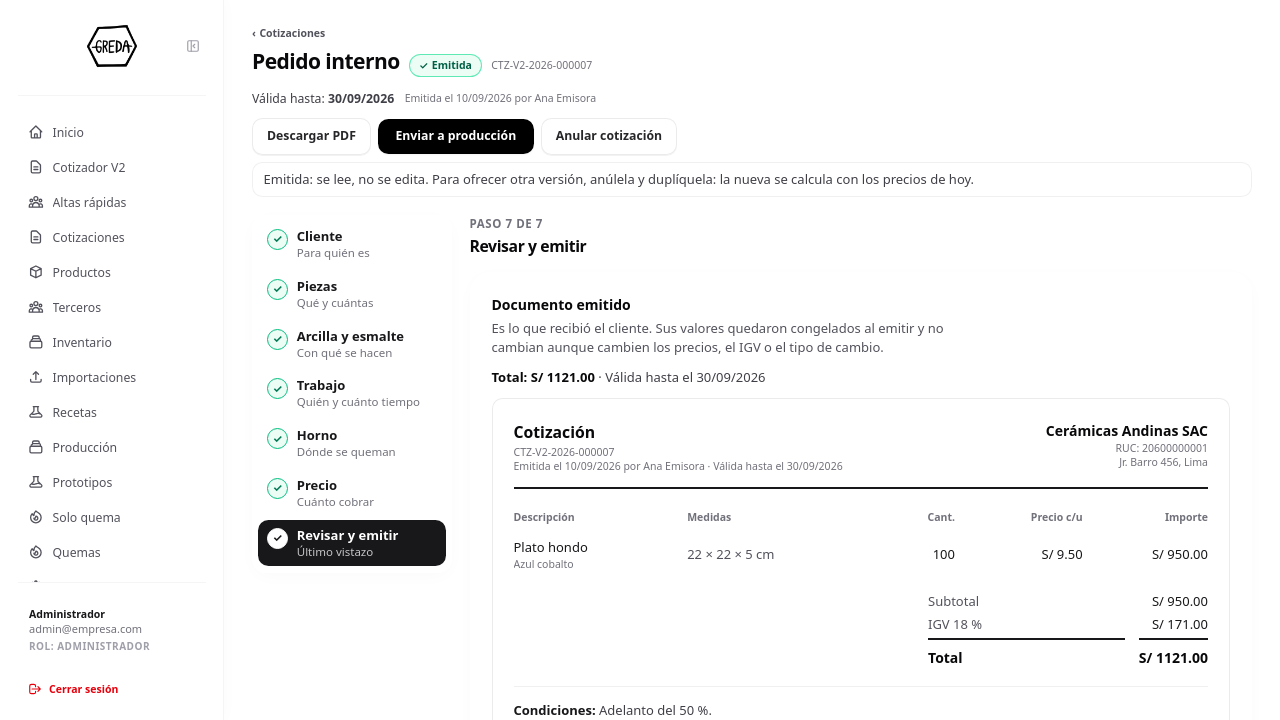
Test: anular, PDF e historial (Fase 010H) › un PDF que falla se explica sin enseñar el código
Click the button "Descargar PDF": (311, 136) left=252, top=118, right=371, bottom=154
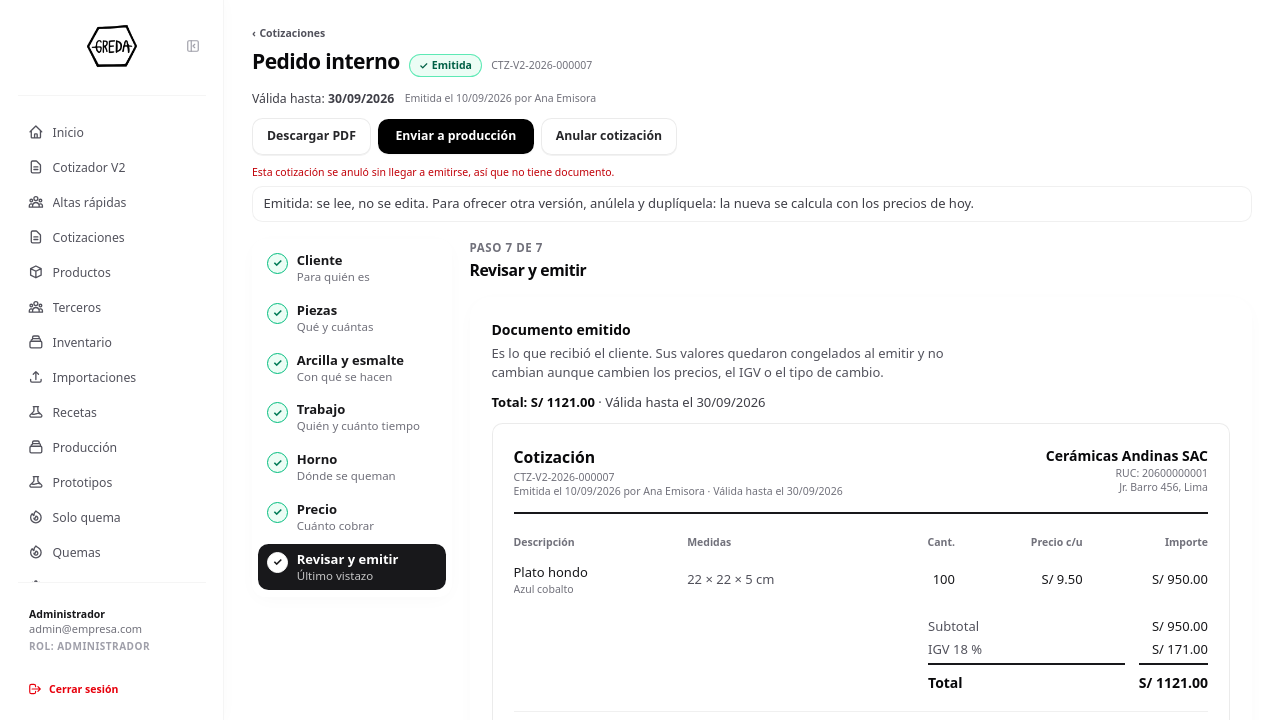
Check: the message does not show "V2_", box left=252, top=165, right=614, bottom=179
Check: the message shows "no tiene documento", box left=252, top=165, right=614, bottom=179
